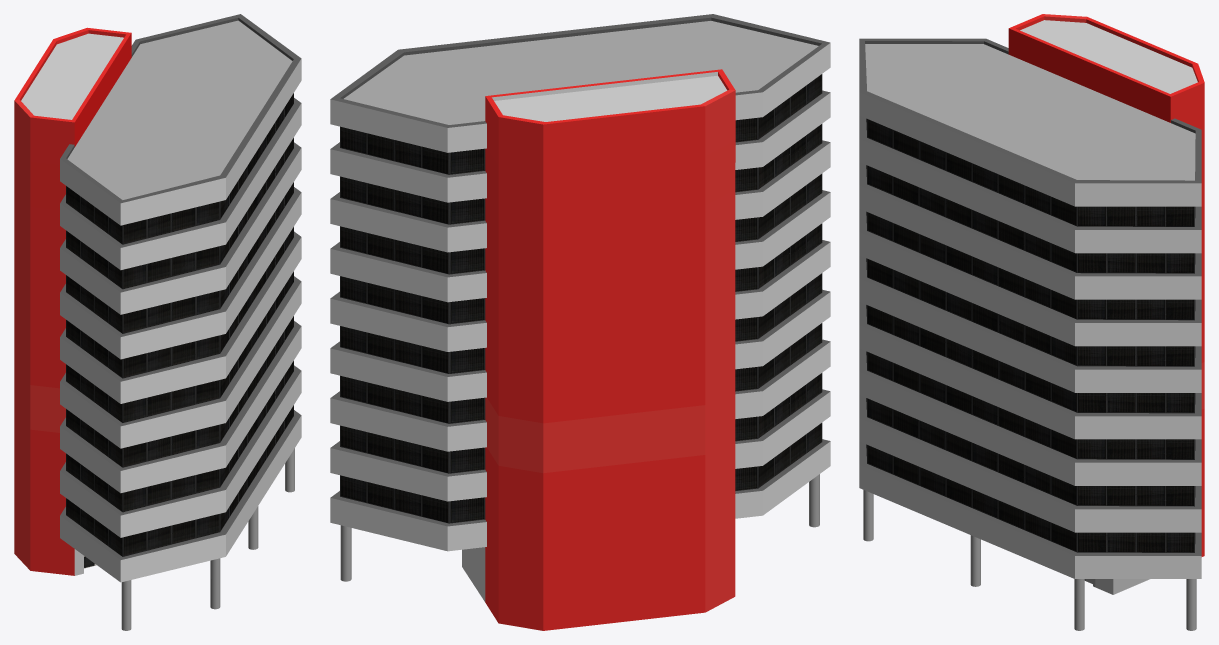
3 views of the same model, side by side, from view 1: azimuth 30°, elevation 25°; view 2: azimuth 150°, elevation 25°; view 3: azimuth 270°, elevation 25° (orthographic). The views are drawn at different scales.
Parts seen in each view (by area): view 1: BB-070; view 2: BB-070; view 3: BB-070.
Boxes of the visible parts, x1,y1,x2,y2 form: BB-070: (14, 14, 301, 630); BB-070: (330, 14, 830, 630); BB-070: (859, 14, 1204, 630).
Size of what is drawn, in the model's own units: 20.18 by 30.5 by 20.17.
